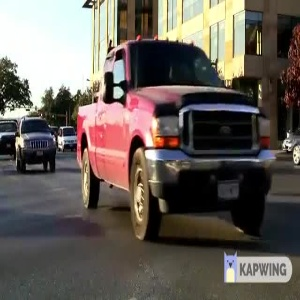suv: (11, 114, 59, 174)
truck: (65, 28, 274, 248)
